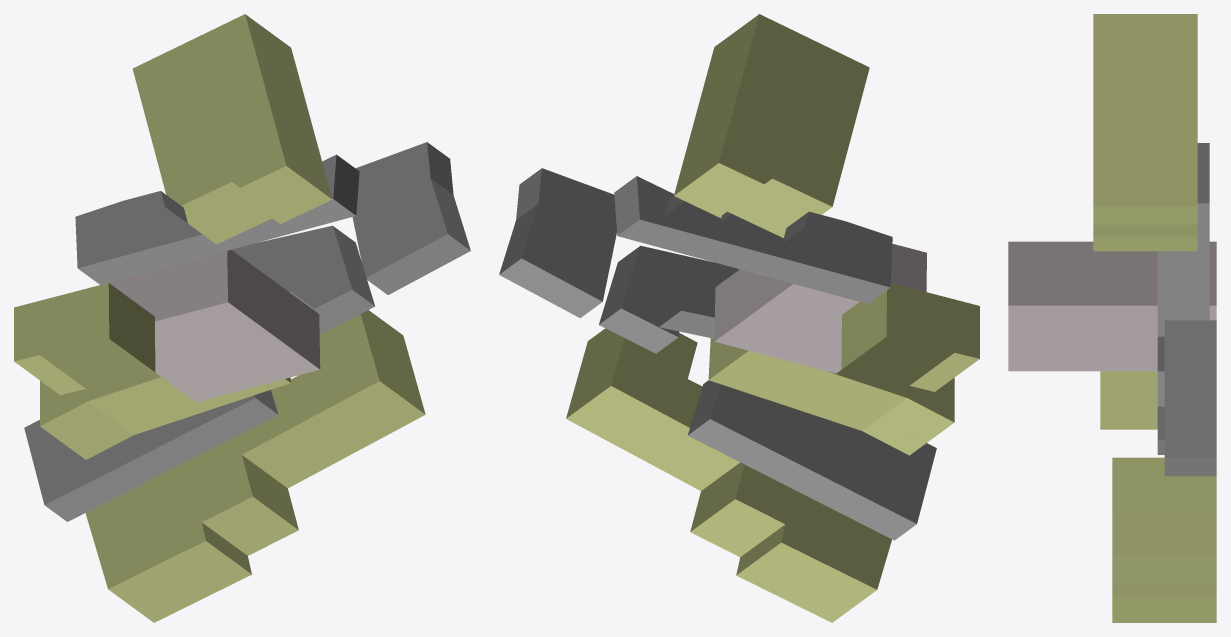
The picture shows the model from 3 angles, left to right: view 1: azimuth 30°, elevation 25°; view 2: azimuth 150°, elevation 25°; view 3: azimuth 270°, elevation 25°; orthographic projection. The views are drawn at different scales.
Visible parts, largest first — view 1: 0_1_0_0_1_0_1_3_3; view 2: 0_1_0_0_1_0_1_3_3; view 3: 0_1_0_0_1_0_1_3_3.
Part boxes in pixels (<box>): 0_1_0_0_1_0_1_3_3: <box>14,14,470,622</box>; 0_1_0_0_1_0_1_3_3: <box>499,14,979,622</box>; 0_1_0_0_1_0_1_3_3: <box>1008,14,1216,622</box>.
Bounding box in the file's own units: 33.02 × 39.52 × 12.
